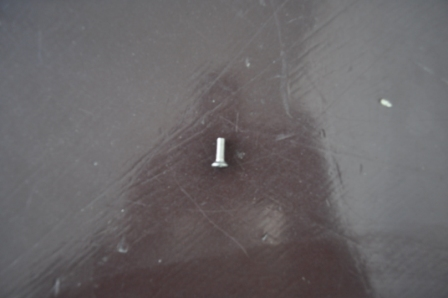NUT (MT): (211, 136, 227, 168)
